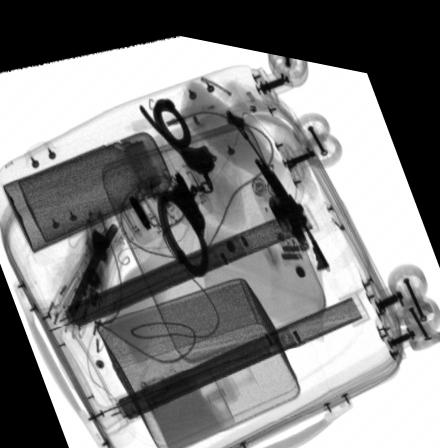Gun: (223, 95, 329, 258)
HandCuffs: (139, 89, 217, 269)
